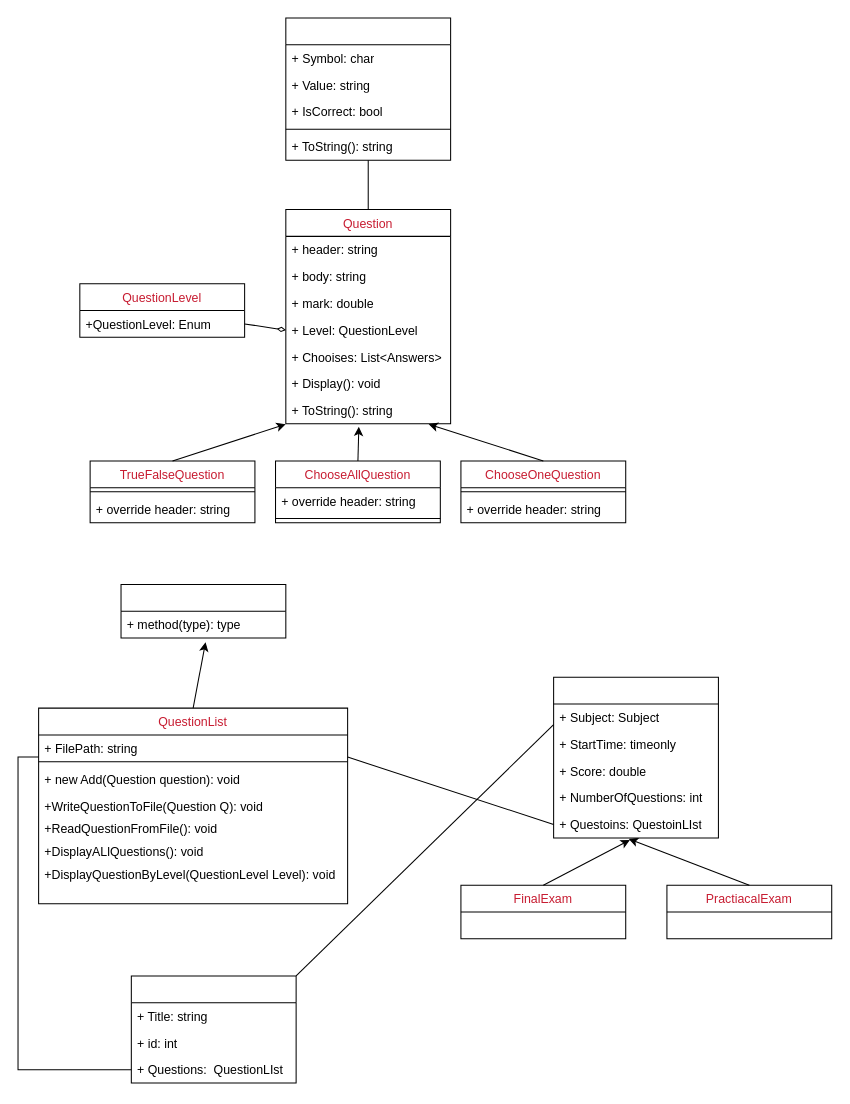
Image size: 850x1104. Some labels were removed from this diagram. Each missing label, with the box of its shape:
Answer: (285, 17, 451, 160)
Exam: (553, 676, 718, 838)
List<T>: (120, 583, 286, 638)
Subject: (130, 975, 296, 1083)
